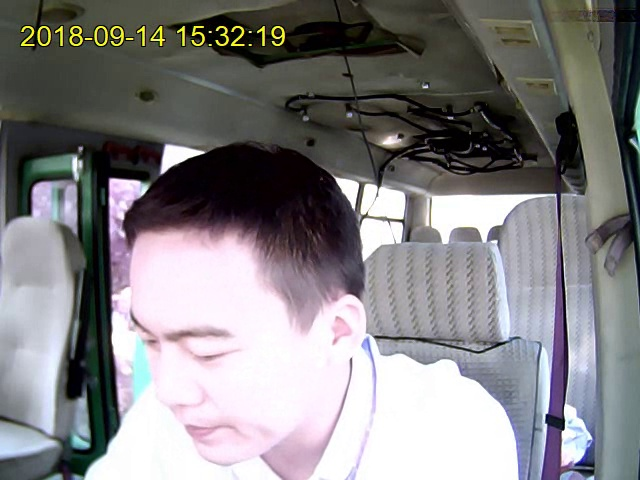closed_eye: (182, 346, 237, 365)
closed_mouth: (179, 420, 229, 441)
